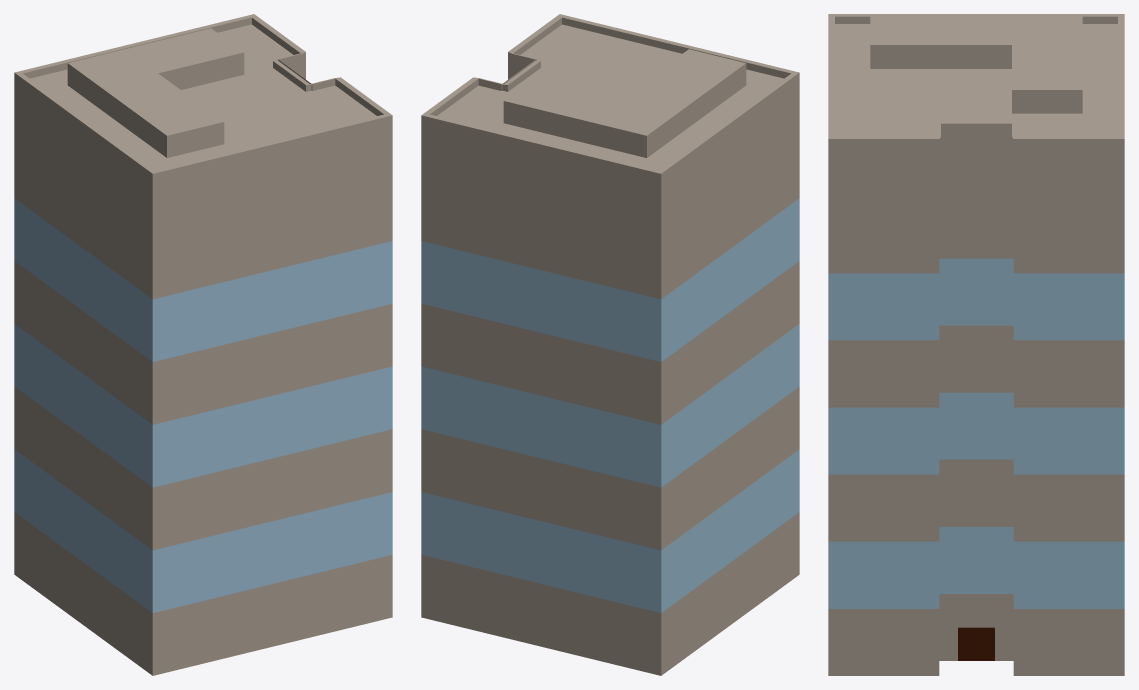
3 renders of one model, left to right at view 1: azimuth 30°, elevation 25°; view 2: azimuth 150°, elevation 25°; view 3: azimuth 270°, elevation 25°, orthographic. The views are drawn at different scales.
Visible parts, largest first — view 1: Cube.034; view 2: Cube.034; view 3: Cube.034.
Part boxes in pixels (x1=…): Cube.034: x1=14, y1=14, x2=392, y2=675; Cube.034: x1=421, y1=14, x2=799, y2=675; Cube.034: x1=828, y1=14, x2=1124, y2=675.
Bounding box in the file's own units: 200 × 412 × 200.
